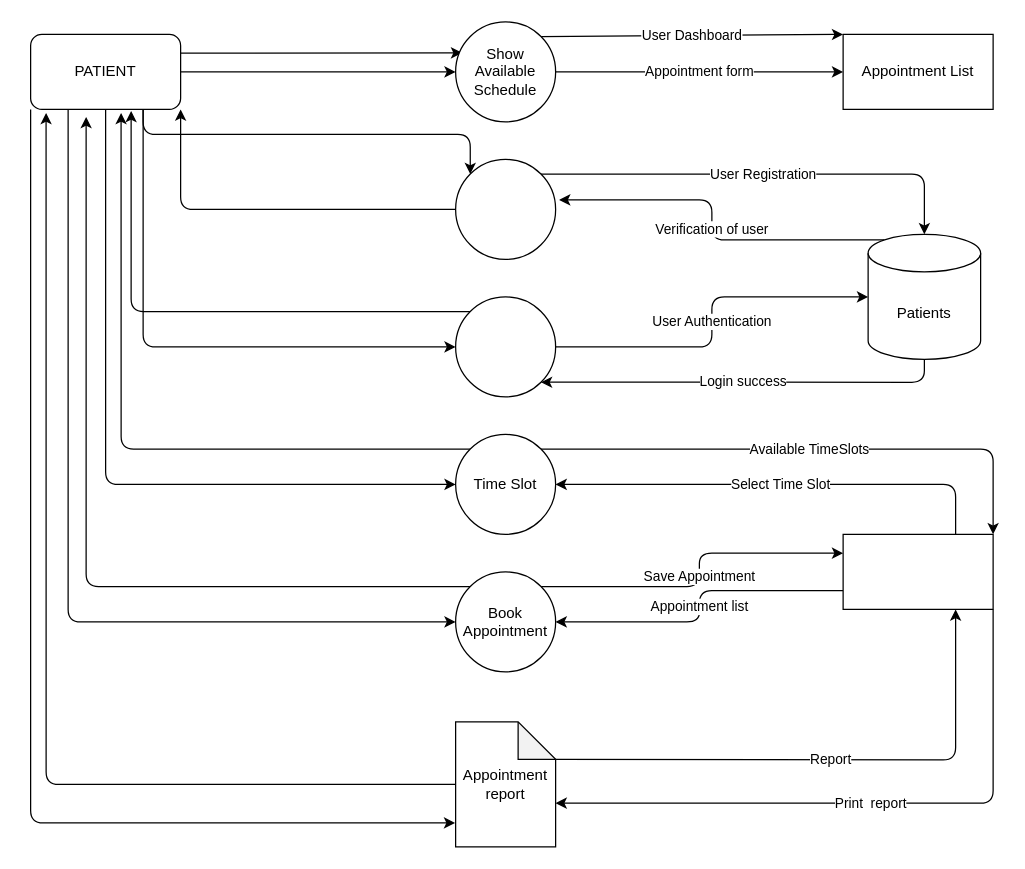
This 1025x869 diagram has some shape labels left out. Here are the shapes that lost their labels. From the top down, the centre of each, then its label:
(505,208): Register
(505,346): Login
(917,571): Appointment details
